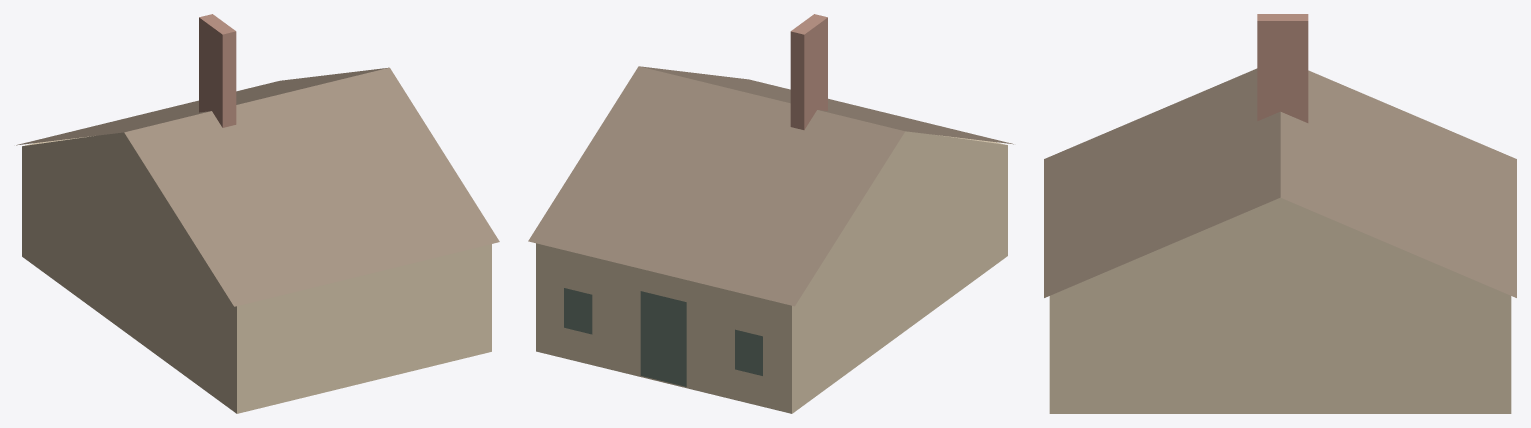
Rendered from recon_1835_south_d5_016__recommended_1835.glb.
The picture shows the model from 3 angles, left to right: view 1: azimuth 30°, elevation 25°; view 2: azimuth 150°, elevation 25°; view 3: azimuth 270°, elevation 25°; orthographic projection. The views are drawn at different scales.
Parts seen in each view (by area): view 1: recon_1835_south_d5_016__recommended_1835; view 2: recon_1835_south_d5_016__recommended_1835; view 3: recon_1835_south_d5_016__recommended_1835.
Part boxes in pixels (x1,y1,x2,y2): recon_1835_south_d5_016__recommended_1835: [16, 14, 499, 413]; recon_1835_south_d5_016__recommended_1835: [528, 14, 1013, 413]; recon_1835_south_d5_016__recommended_1835: [1044, 14, 1516, 413].
Size of the model in its own units: 7 by 7.27 by 10.06.
